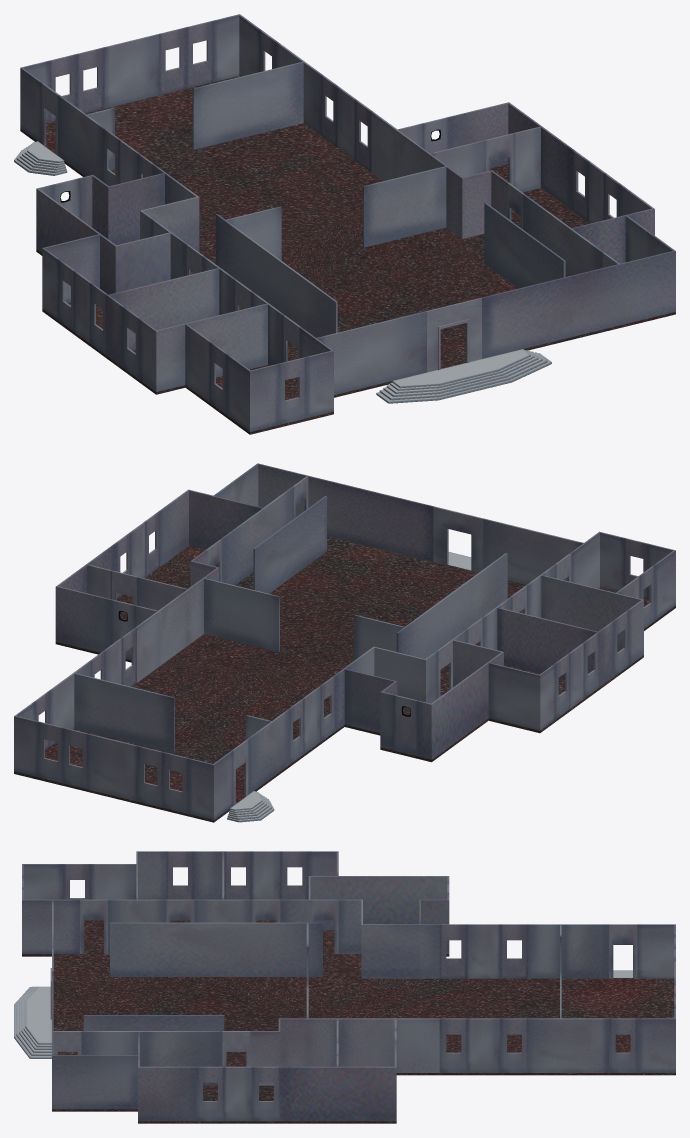
File: Building with hole 1.fbx
3 renders of one model, top to bottom at view 1: azimuth 30°, elevation 25°; view 2: azimuth 150°, elevation 25°; view 3: azimuth 270°, elevation 25°, orthographic. The views are drawn at different scales.
Parts seen in each view (by area): view 1: Mansion_Mini_Production_Mid, Mansion_Mini_Production_Bottom; view 2: Mansion_Mini_Production_Mid, Mansion_Mini_Production_Bottom; view 3: Mansion_Mini_Production_Mid, Mansion_Mini_Production_Bottom.
Boxes of the visible parts, x1=… form: Mansion_Mini_Production_Mid: x1=14, y1=14, x2=675, y2=431; Mansion_Mini_Production_Bottom: x1=20, y1=76, x2=675, y2=434; Mansion_Mini_Production_Mid: x1=14, y1=463, x2=675, y2=822; Mansion_Mini_Production_Bottom: x1=14, y1=536, x2=675, y2=822; Mansion_Mini_Production_Mid: x1=14, y1=851, x2=675, y2=1121; Mansion_Mini_Production_Bottom: x1=22, y1=920, x2=675, y2=1123.
Size of the model in its own units: 6956 by 937 by 9000.
